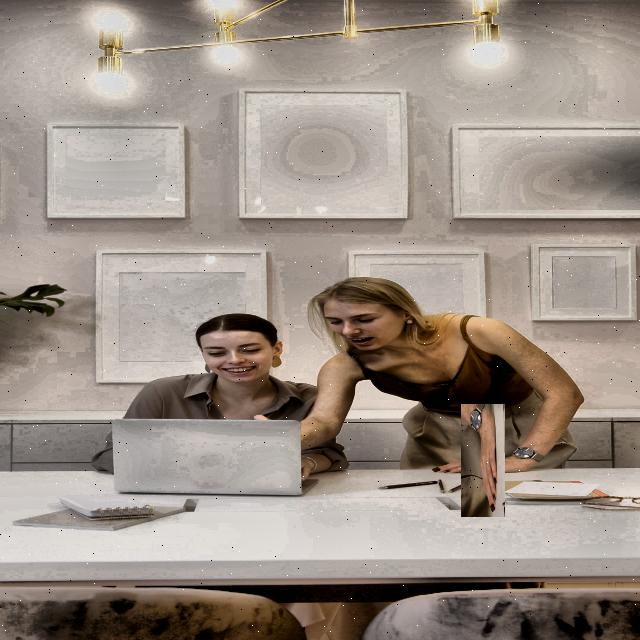not-gloved: (444, 420, 523, 500)
